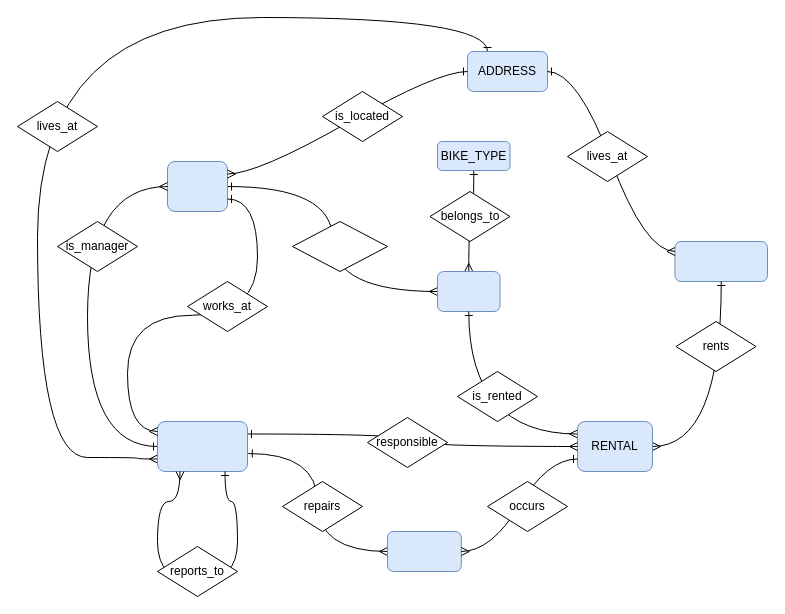
This 785x614 diagram has some shape labels left out. Here are the shapes that lost their labels. From the top down, the centre of each, then its label:
point (197, 186): SHOP
point (340, 246): registered_at
point (721, 261): CUSTOMER
point (468, 291): BIKE
point (202, 446): EMP
point (423, 551): DAMAGE
